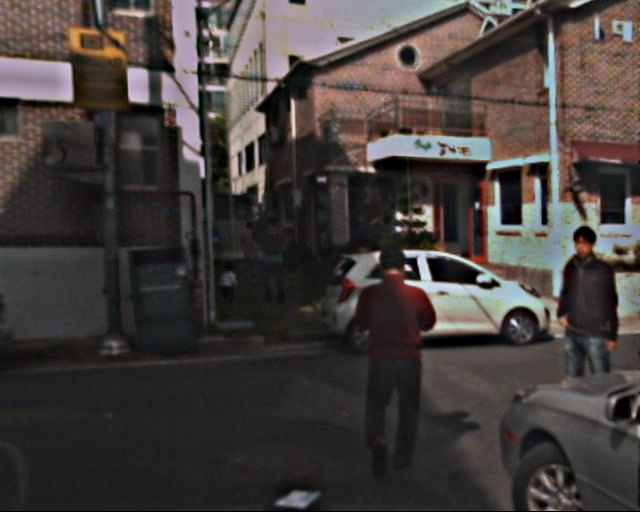person: (537, 227, 635, 463), (339, 251, 439, 475), (254, 214, 293, 306), (236, 221, 264, 289), (218, 260, 240, 313)
